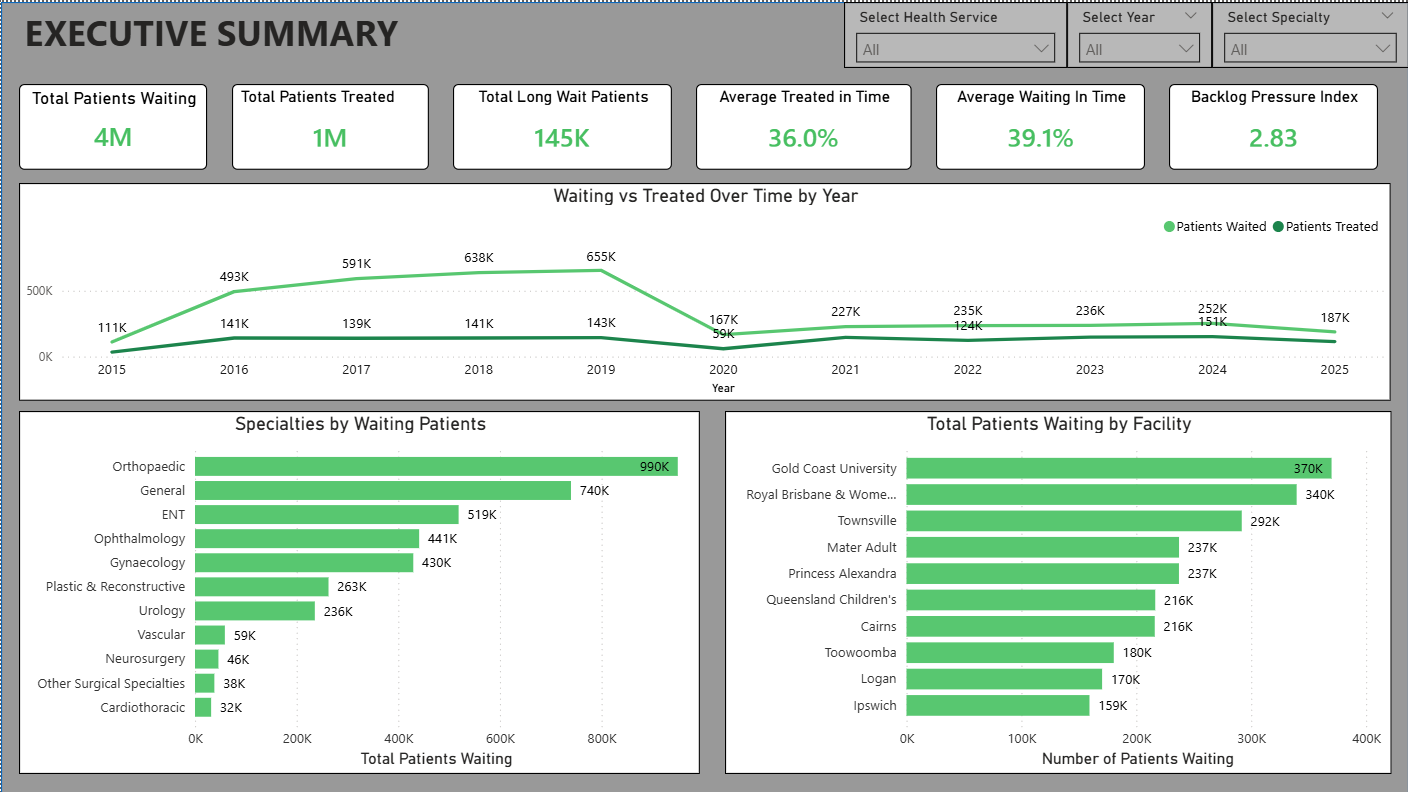

The page's visual inventory and layout, read from the dashboard file:
{"tool":"powerbi","page":{"name":"Executive Summary","canvas":[1280,720],"ordinal":0},"visuals":[{"type":"shape","box":[0,0,1280,720],"z":0},{"type":"cardVisual","title":"Total Patients Waiting","fields":{"Data":["Sum(elective_surgery_specialty.vol_wait)"]},"box":[16.7,74.4,171.1,77.8],"z":1000},{"type":"cardVisual","title":"Total Patients Treated","fields":{"Data":["Sum(elective_surgery_specialty.vol_treated)"]},"box":[210,74.4,178.9,77.8],"z":2000},{"type":"cardVisual","title":"Total Long Wait Patients","fields":{"Data":["Sum(elective_surgery_specialty.vol_long_wait)"]},"box":[411.1,74.4,198.9,77.8],"z":3000},{"type":"cardVisual","title":"Average Treated in Time","fields":{"Data":["Measures (2).Average % Treated In Time"]},"box":[632.2,74.4,195.6,77.8],"z":4000},{"type":"cardVisual","title":"Average Waiting In Time","fields":{"Data":["Measures (2).Average % Waiting In Time"]},"box":[850,74.4,190,77.8],"z":5000},{"type":"cardVisual","title":"Backlog Pressure Index","fields":{"Data":["Measures (2).Backlog Pressure Index"]},"box":[1062.2,74.4,190,77.8],"z":6000},{"type":"lineChart","title":"Waiting vs Treated Over Time by Year","fields":{"Category":["elective_surgery_specialty.date_year"],"Y":["Sum(elective_surgery_specialty.vol_wait)","Sum(elective_surgery_specialty.vol_treated)"]},"box":[16.7,164.4,1246.7,197.8],"z":7000},{"type":"barChart","title":"Specialties by Waiting Patients","fields":{"Category":["elective_surgery_specialty.speciality_desc"],"Y":["Sum(elective_surgery_specialty.vol_wait)"]},"box":[16.7,372.2,618.9,330],"z":8000},{"type":"barChart","title":"Total Patients Waiting by Facility","fields":{"Category":["elective_surgery_specialty.facility_name"],"Y":["Sum(elective_surgery_specialty.vol_wait)"]},"box":[657.8,372.2,605.6,330],"z":9000},{"type":"textbox","box":[16.4,0,557.3,60],"z":10000},{"type":"slicer","fields":{"Values":["elective_surgery_specialty.speciality_desc"]},"box":[1101,0,179,60],"z":11000},{"type":"slicer","fields":{"Values":["elective_surgery_specialty.date_year"]},"box":[969,0,132,60],"z":12000},{"type":"slicer","fields":{"Values":["elective_surgery_specialty.health_service"]},"box":[766,0,203,60],"z":13000}]}

Visuals, with their boxes in screenshot pixels (x1, y1, x2, y2), scaled from the page's 1280x720 canvas onto the 1408x792 screenshot:
shape: bbox=[0, 0, 1407, 791]
"Total Patients Waiting" cardVisual: bbox=[18, 82, 207, 167]
"Total Patients Treated" cardVisual: bbox=[231, 82, 428, 167]
"Total Long Wait Patients" cardVisual: bbox=[452, 82, 671, 167]
"Average Treated in Time" cardVisual: bbox=[695, 82, 911, 167]
"Average Waiting In Time" cardVisual: bbox=[935, 82, 1144, 167]
"Backlog Pressure Index" cardVisual: bbox=[1168, 82, 1377, 167]
"Waiting vs Treated Over Time by Year" lineChart: bbox=[18, 181, 1390, 398]
"Specialties by Waiting Patients" barChart: bbox=[18, 409, 699, 772]
"Total Patients Waiting by Facility" barChart: bbox=[724, 409, 1390, 772]
textbox: bbox=[18, 0, 631, 66]
slicer - elective_surgery_specialty.speciality_desc: bbox=[1211, 0, 1407, 66]
slicer - elective_surgery_specialty.date_year: bbox=[1066, 0, 1211, 66]
slicer - elective_surgery_specialty.health_service: bbox=[843, 0, 1066, 66]
